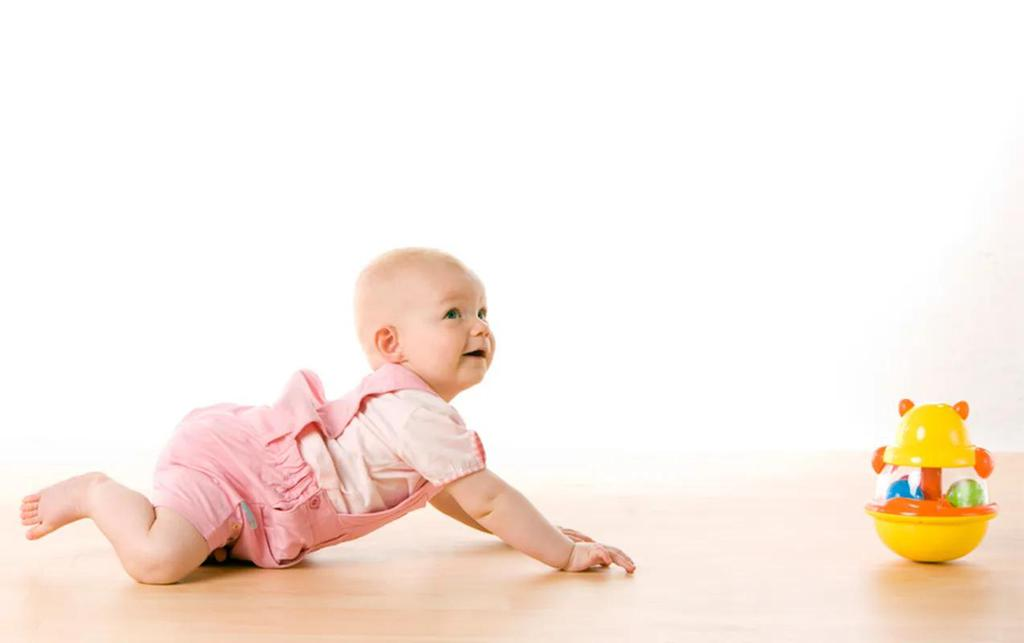child: (10, 228, 646, 599)
